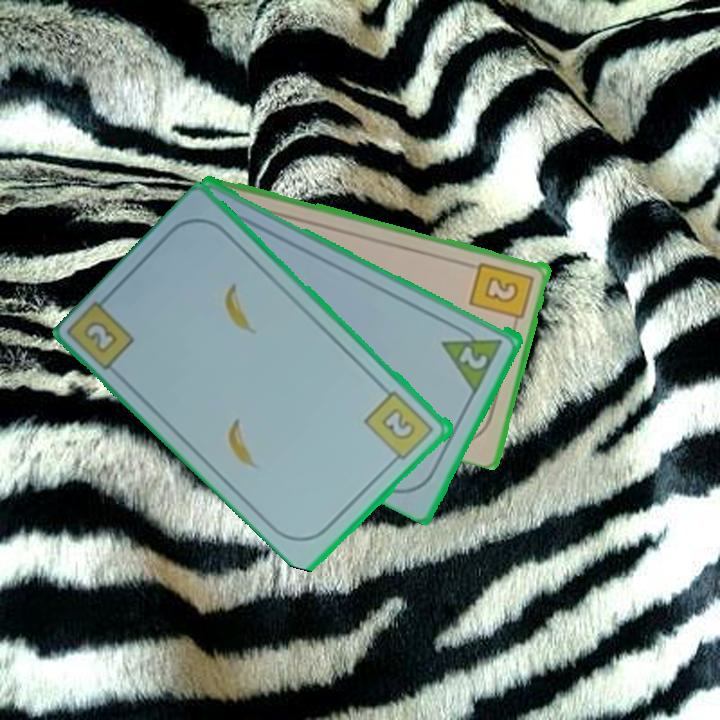2b: (361, 387, 438, 467), (467, 258, 537, 330), (80, 317, 121, 357)
2p: (456, 342, 491, 372)
